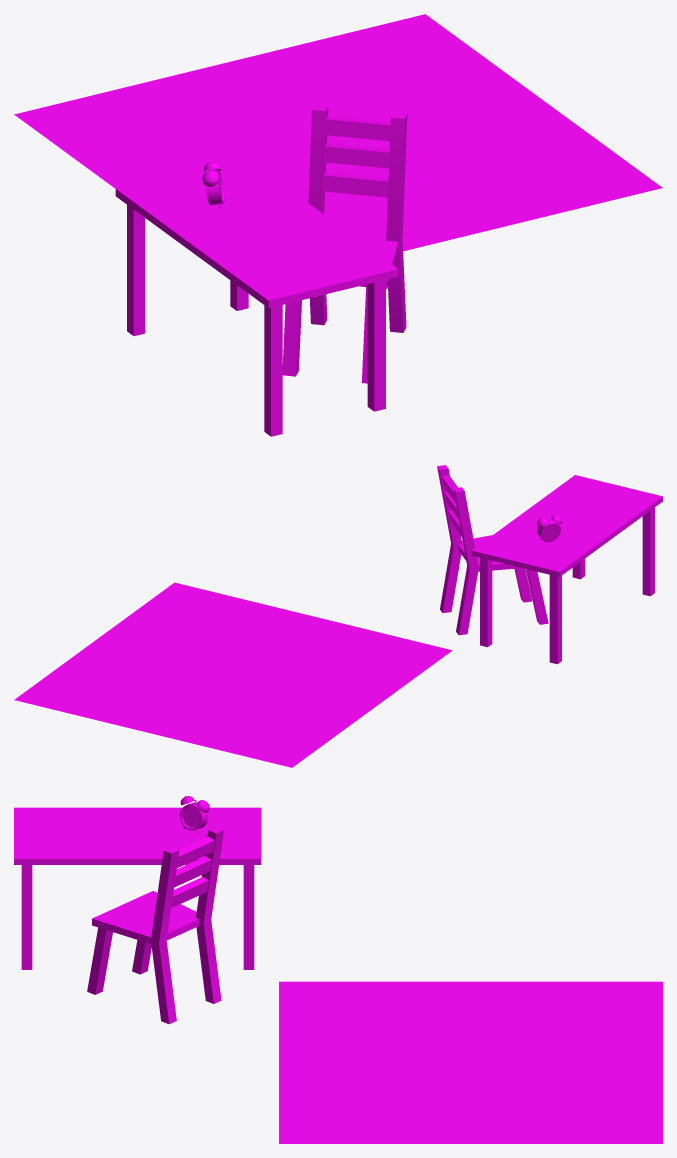
File: BedroomOther.glb
3 renders of one model, top to bottom at view 1: azimuth 30°, elevation 25°; view 2: azimuth 150°, elevation 25°; view 3: azimuth 270°, elevation 25°, orthographic. The views are drawn at different scales.
Visible parts, largest first — view 1: BedroomProps; view 2: BedroomProps; view 3: BedroomProps.
Part boxes in pixels (x1,y1,x2,y2): BedroomProps: (14,14,662,436); BedroomProps: (14,465,662,767); BedroomProps: (14,796,662,1143).
Bounding box in the file's own units: 12.4 × 4.51 × 15.44.
